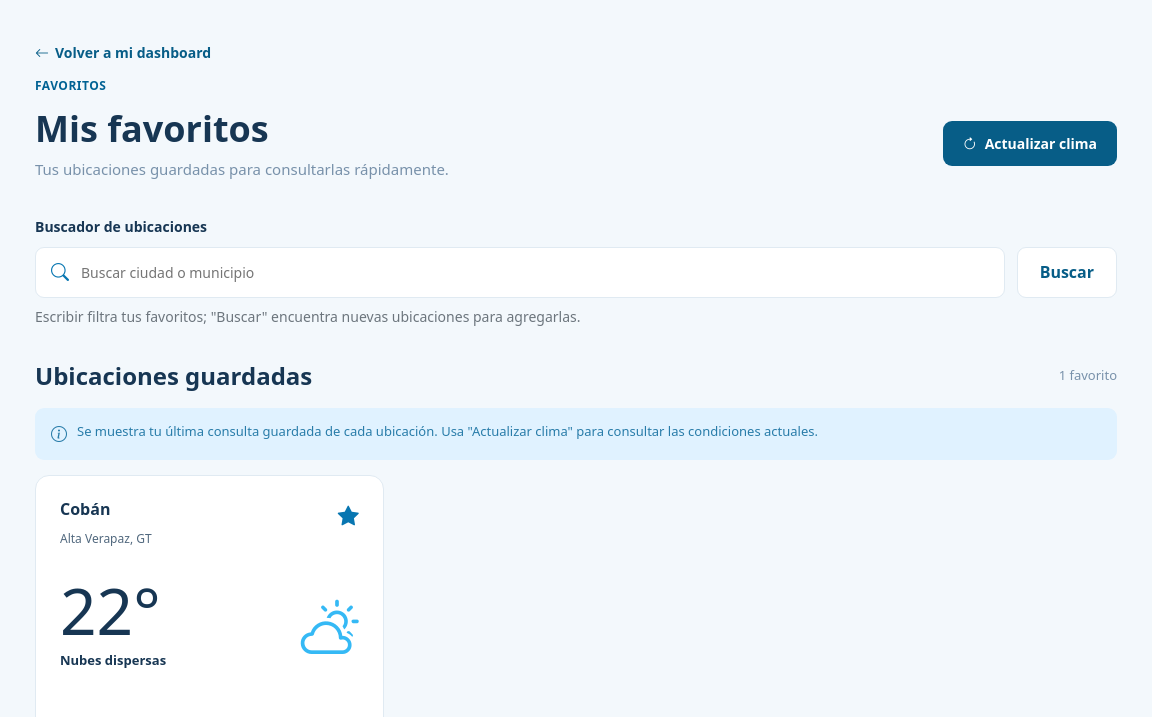
Test: M07 – favoritos › Actualizar clima consulta cada favorito con sesión y notifica alertas
Click the button "Actualizar clima": (1030, 144) [943, 121, 1117, 166]
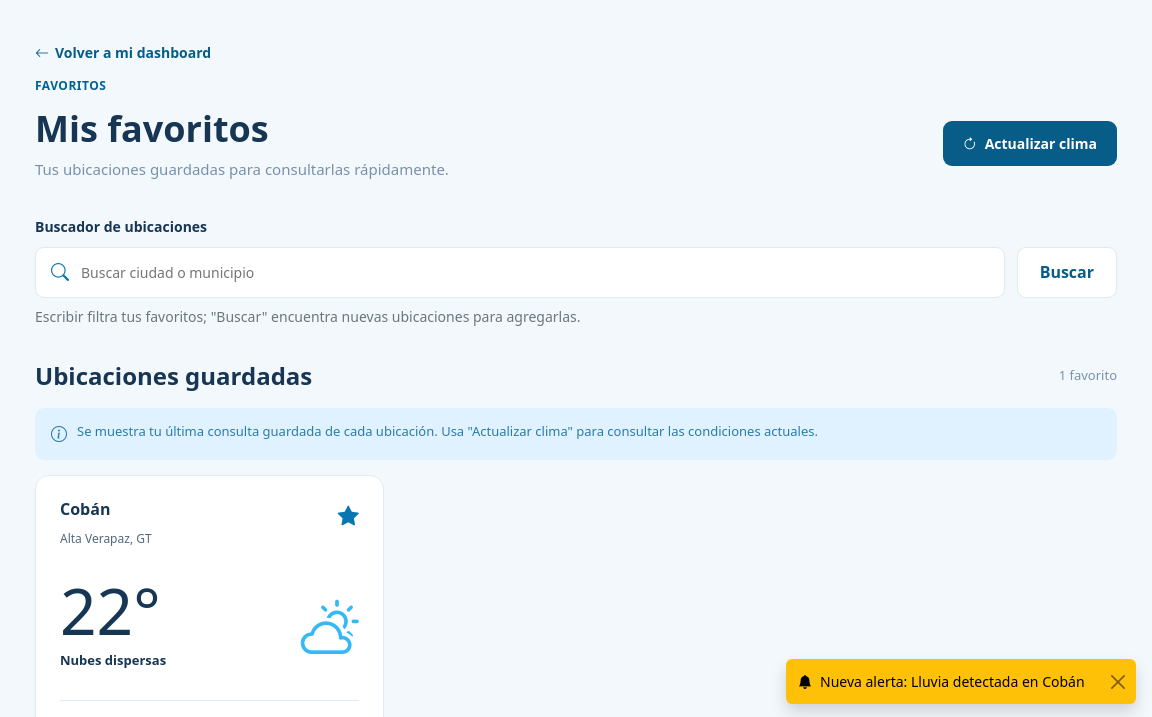
Check: the text "Nueva alerta: Lluvia detectada en Cobán" is shown, box [798, 672, 1085, 691]
